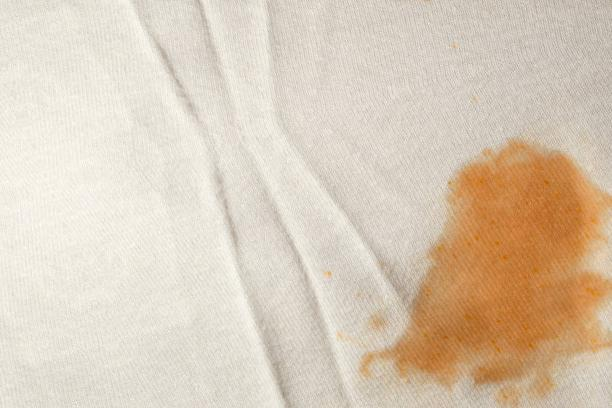stain: (353, 132, 612, 408), (316, 260, 337, 291)
